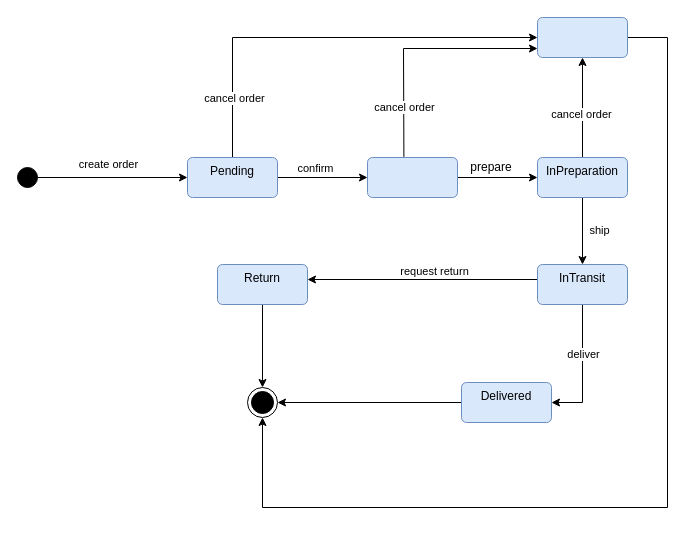
Image size: 693x533. Some labels were removed from this diagram. The shapes that lost their labels are listed below. From the top down, each one's centre as x and y in pixels, then its label:
At [582,37]: "Cancelled".
At [412,177]: "Confirmed".
